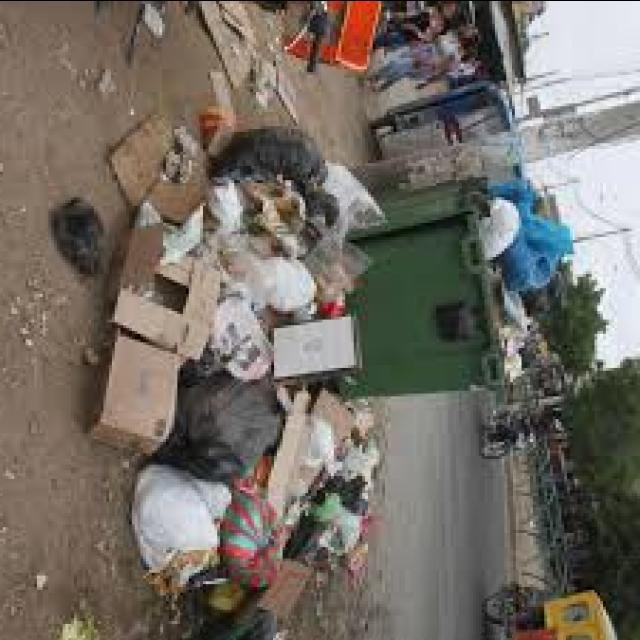garbage: (95, 122, 572, 633)
